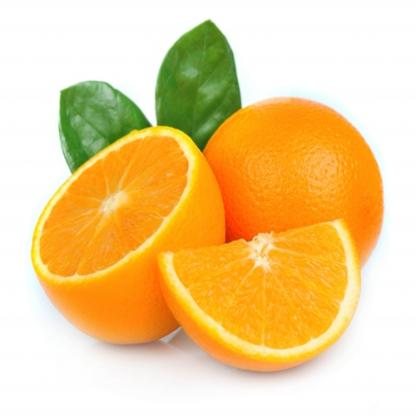orange: (194, 92, 388, 306)
